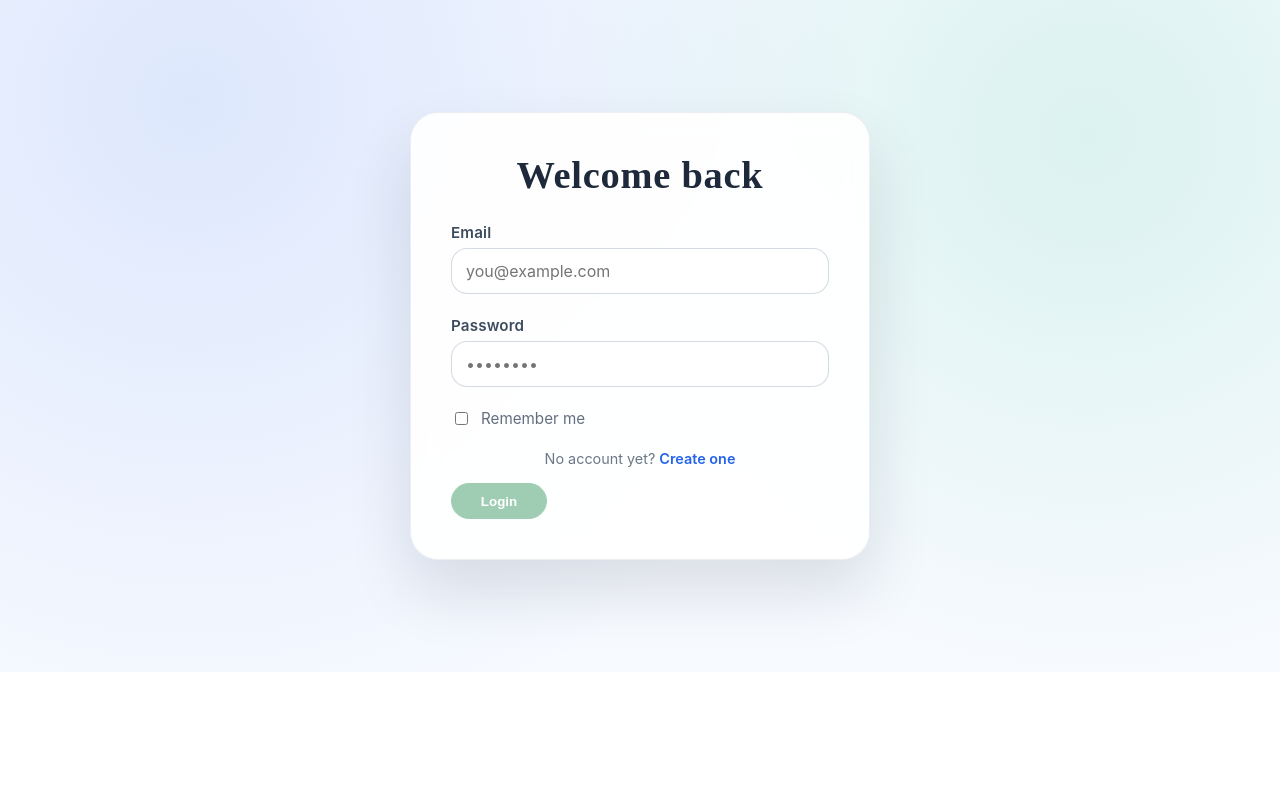
Scenario: LoginPage › should enable submit button when form is filled
The image size is (1280, 800).
Type "test@example.com" into the field labelled "Email" at (640, 271), box [451, 248, 829, 294]
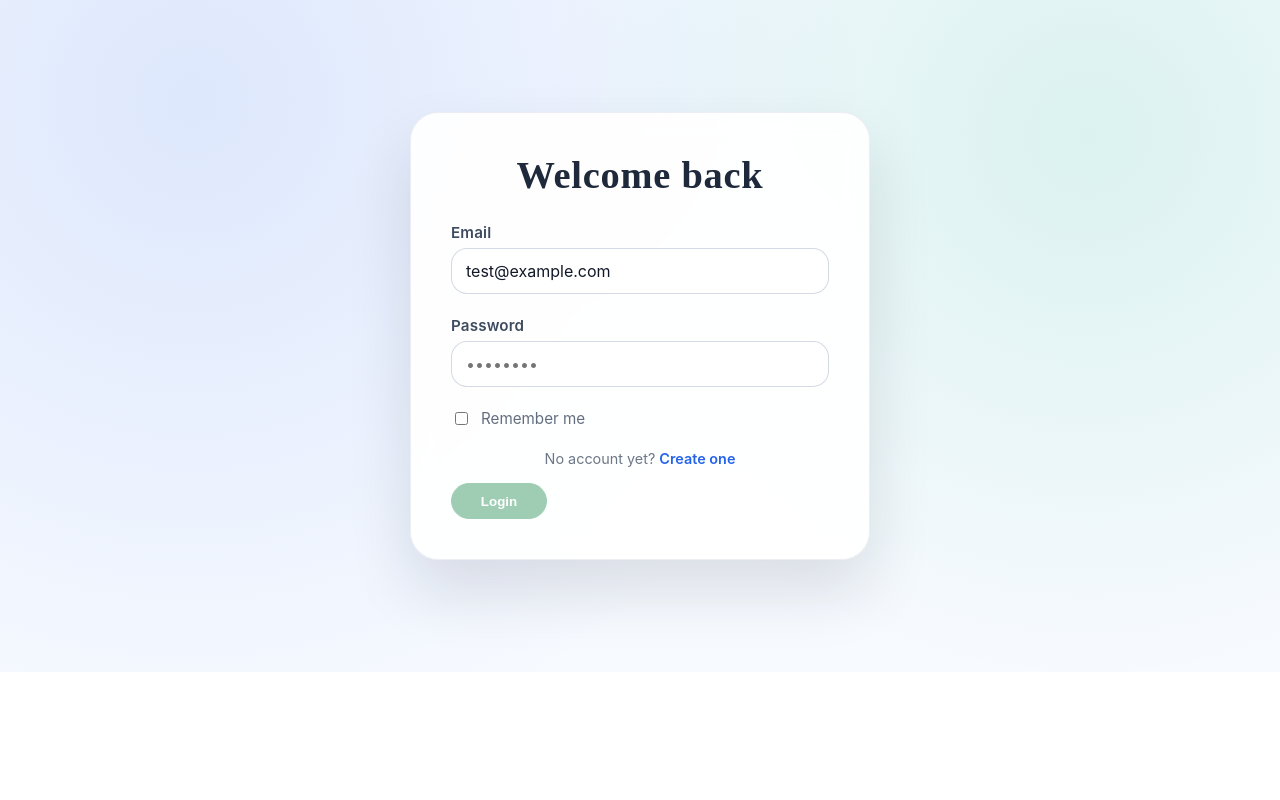
Type "123456" into the password field labelled "Password" at (640, 364), box [451, 341, 829, 387]
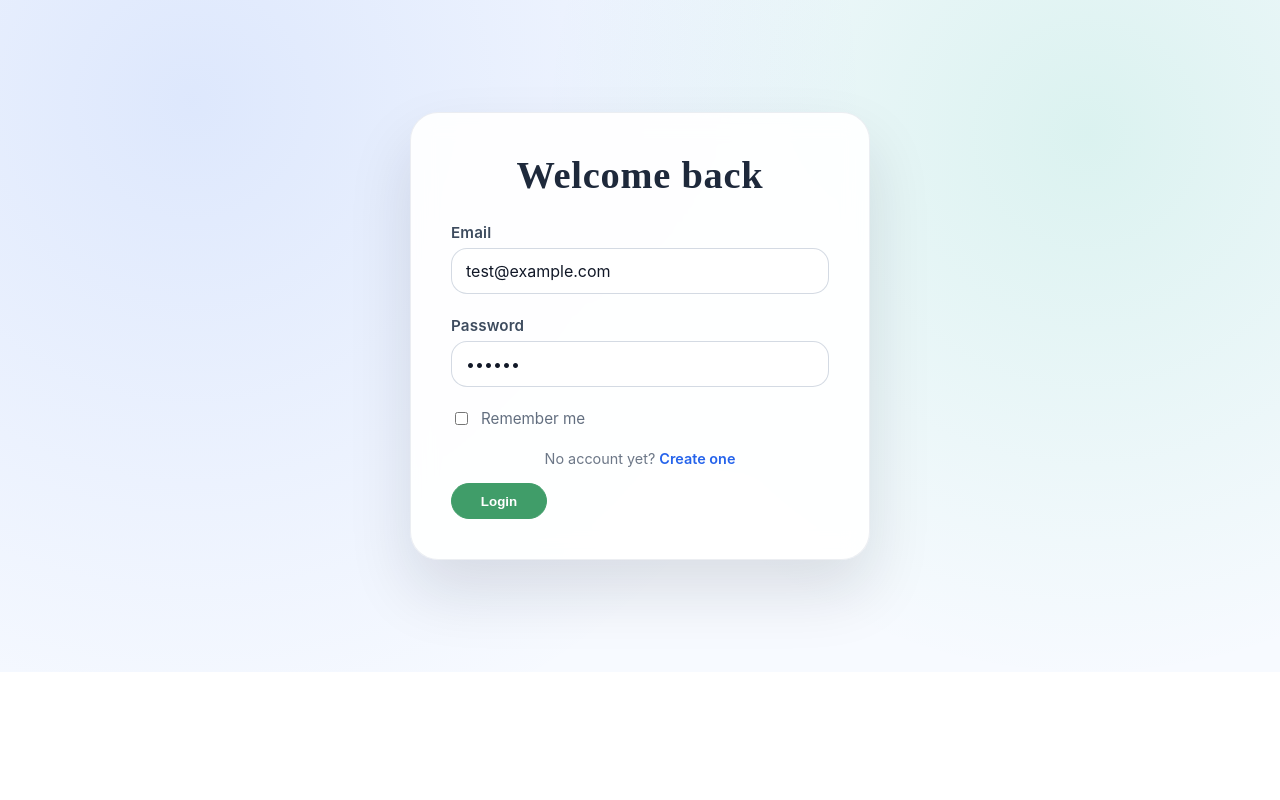
Expected: the button "Login" is enabled, [451, 483, 547, 519]
